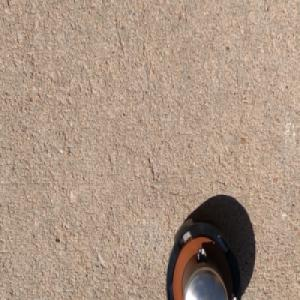FuelCap: (162, 213, 241, 300)
